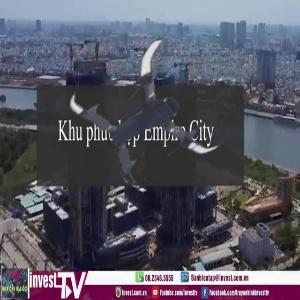drone: (84, 43, 227, 186)
